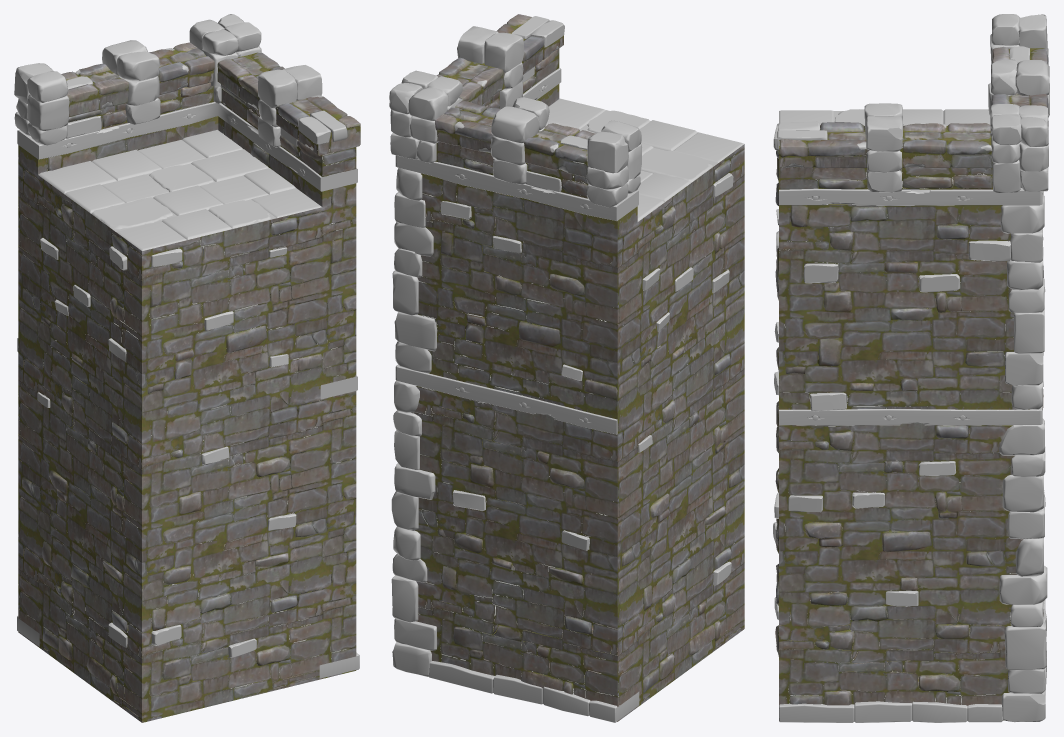
3 renders of one model, left to right at view 1: azimuth 30°, elevation 25°; view 2: azimuth 150°, elevation 25°; view 3: azimuth 270°, elevation 25°, orthographic. The views are drawn at different scales.
Visible parts, largest first — view 1: SM_Castle_Wall_4x12_01_v8_LOD0; view 2: SM_Castle_Wall_4x12_01_v8_LOD0; view 3: SM_Castle_Wall_4x12_01_v8_LOD0.
Part boxes in pixels (bbox=[...]): SM_Castle_Wall_4x12_01_v8_LOD0: bbox=[14, 14, 360, 722]; SM_Castle_Wall_4x12_01_v8_LOD0: bbox=[389, 14, 744, 722]; SM_Castle_Wall_4x12_01_v8_LOD0: bbox=[773, 14, 1049, 722].
Size of the model in its own units: 5.03 by 11.97 by 5.03.
